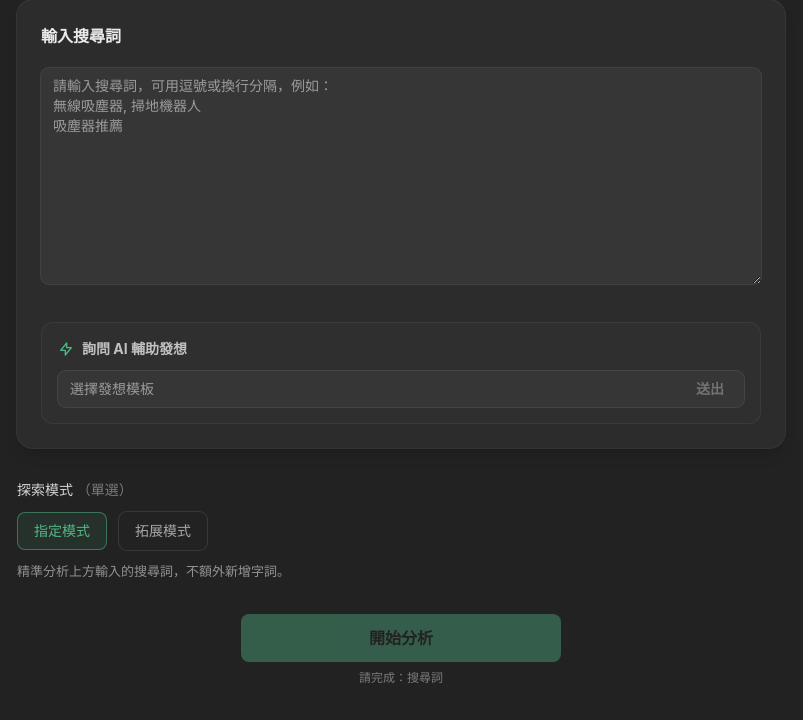
Test: TC-32/TC-75 · HomeRoute submit (POST 202 with settings geo/lang + fixed network/adult) › surfaces a generic error when a failure has no field-level messages
This screenshot has width=803, height=720.
In the text box labelled "輸入搜尋詞": [401, 176] box [41,68,761,284], type "shoes"
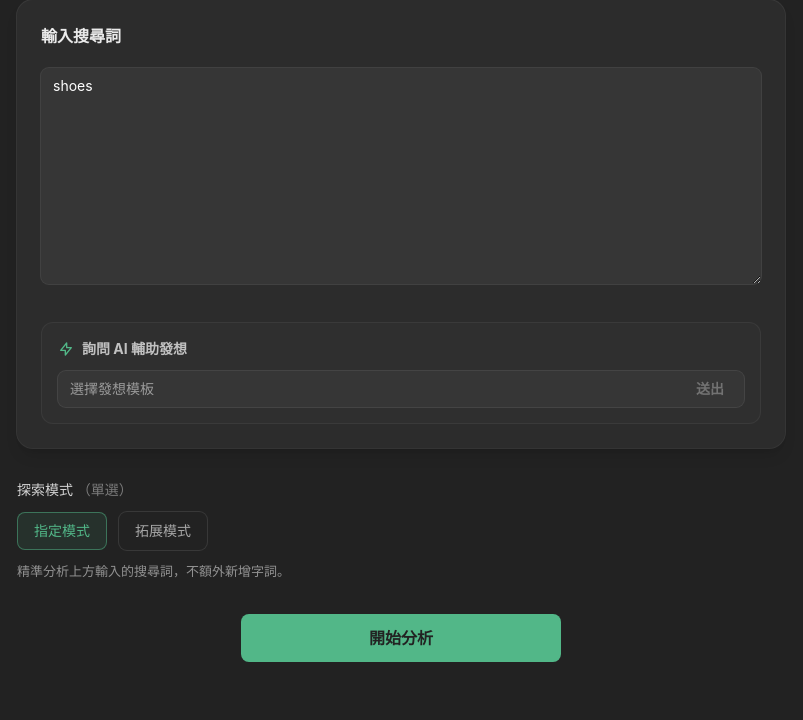
Click the button "開始分析": [401, 638] box [241,614,561,662]
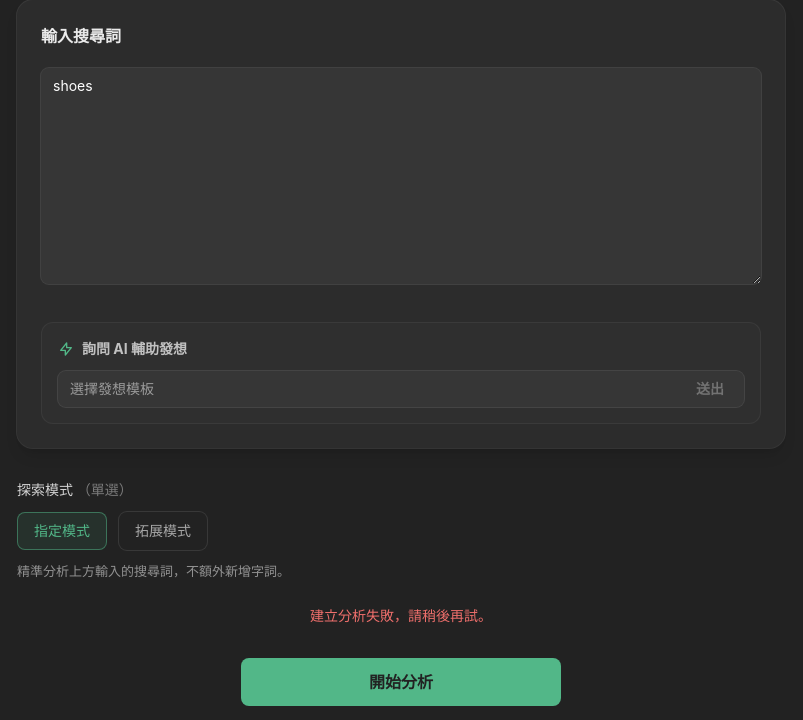
Expected: the button "開始分析" is enabled, [241,658,561,706]
Expected: the text "建立分析失敗，請稍後再試。" is shown, [310,606,492,624]
